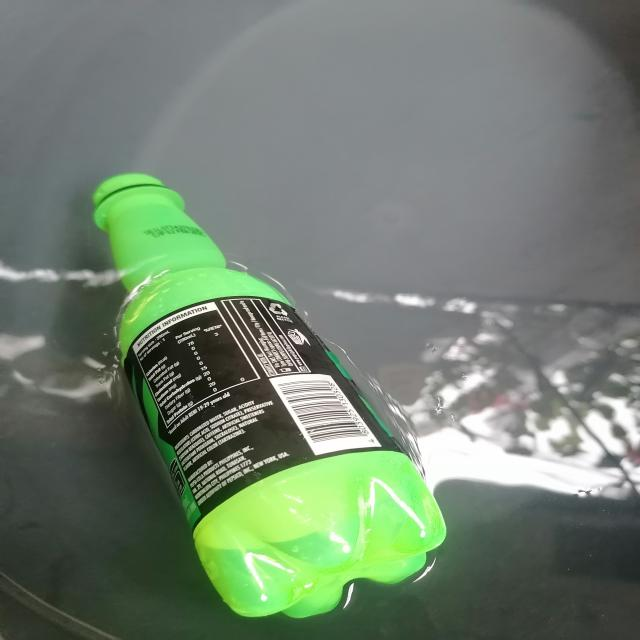Plastic Bottle: (93, 174, 446, 618)
